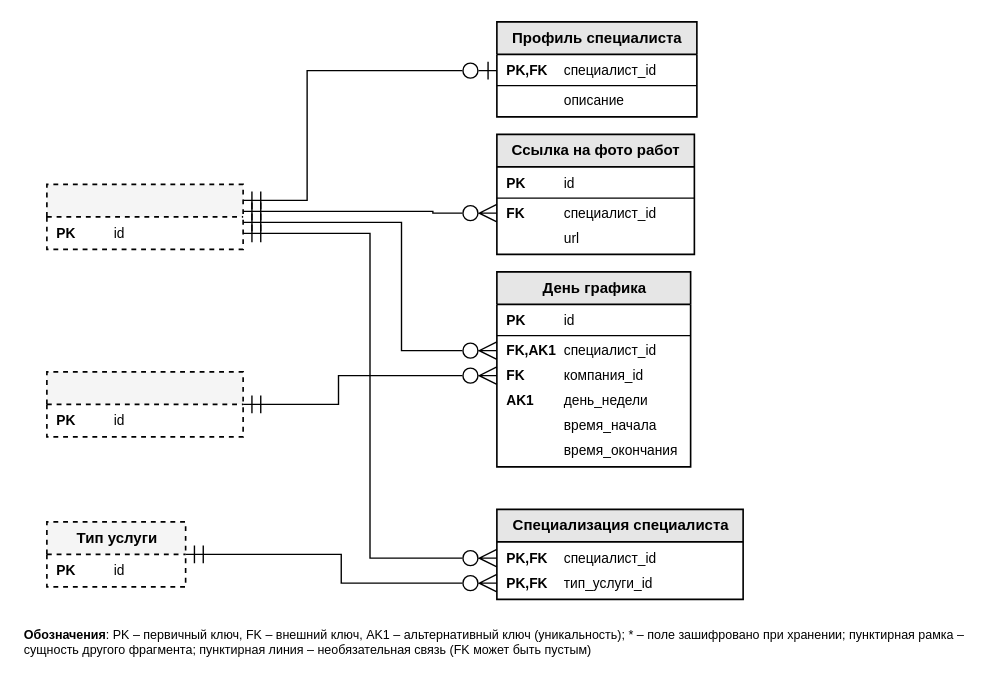
Some shapes in this 993 by 680 pixel diagram are drawn without their labels. The shapes that lost their labels are listed below. From the top down, each one's box as (x1, y1, x2, y2) in pixels, then its label:
(46, 183, 243, 250): Пользователь
(46, 370, 243, 437): Компания
